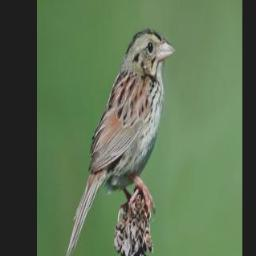Sparrow: (66, 28, 176, 256)
